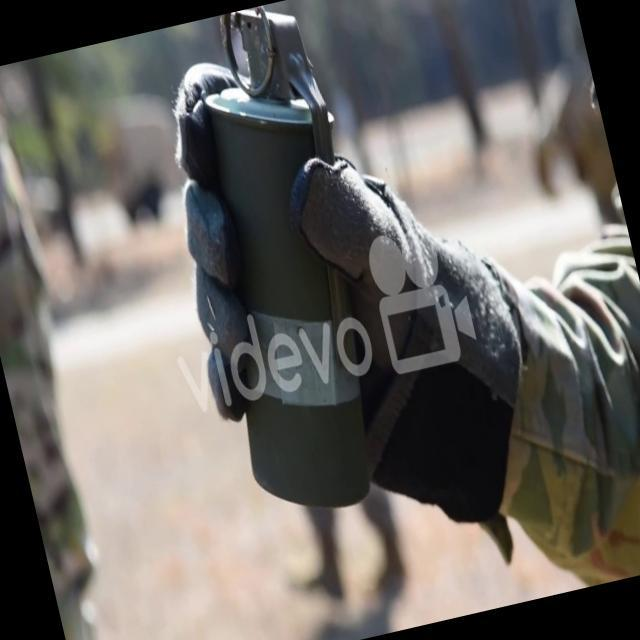grenade: (150, 4, 414, 528)
